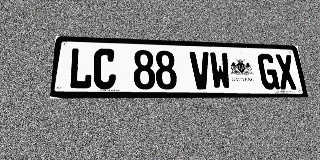8: (133, 50, 155, 89), (155, 50, 177, 89)
C: (92, 48, 116, 89)
G: (257, 53, 280, 90)
L: (68, 48, 93, 89)
V: (189, 51, 212, 89)
W: (209, 52, 232, 89)
X: (274, 54, 298, 90)
